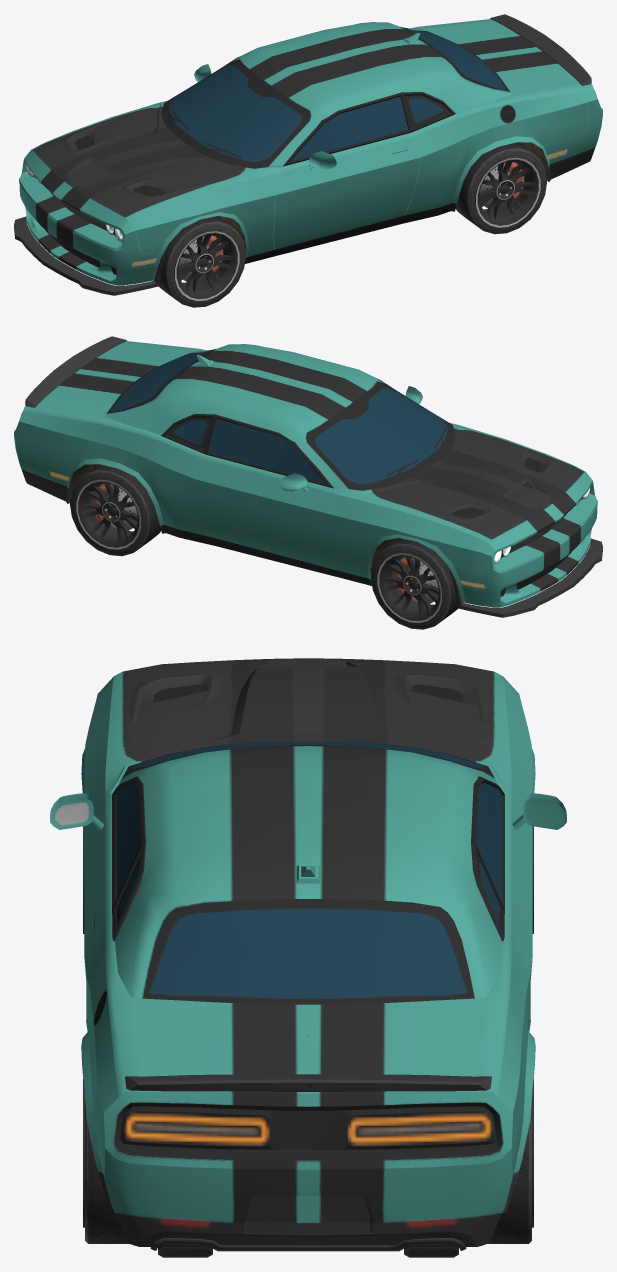
3 views of the same model, one above another, from view 1: azimuth 30°, elevation 25°; view 2: azimuth 150°, elevation 25°; view 3: azimuth 270°, elevation 25° (orthographic). The views are drawn at different scales.
Parts seen in each view (by area): view 1: Body, Wheel; view 2: Body, Wheel; view 3: Body, Wheel.
Part boxes in pixels (x1,y1,x2,y2): Body: (14,14,602,295); Wheel: (158,142,546,307); Body: (14,336,602,617); Wheel: (70,464,458,629); Body: (50,658,566,1257); Wheel: (83,826,533,1243).
Size of the model in its own units: 2 by 0.6151 by 0.8605.
Materials: 2 (2 with a texture image).
